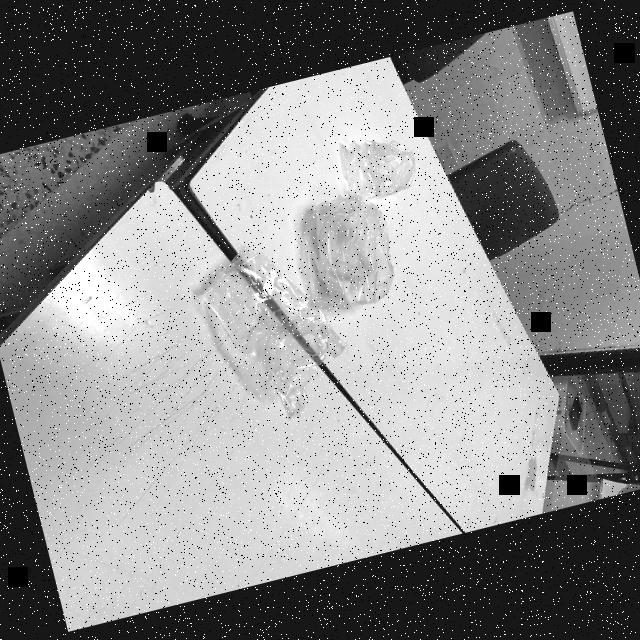plastic_bag: (185, 225, 362, 436), (288, 182, 404, 322), (332, 120, 422, 209)
